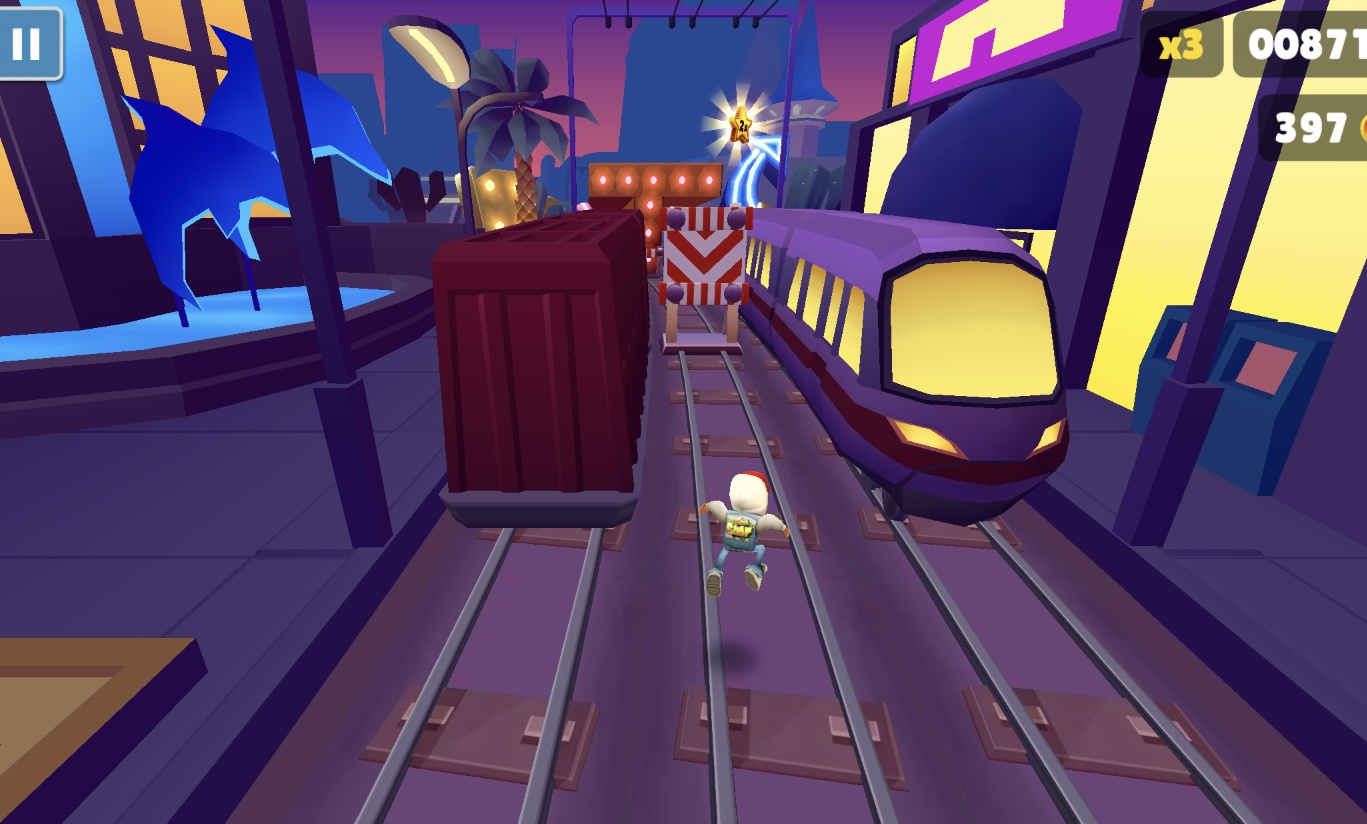overhead_barrier: (658, 204, 755, 360)
pillar: (634, 195, 671, 269)
train: (735, 209, 1073, 529), (430, 206, 654, 532)
